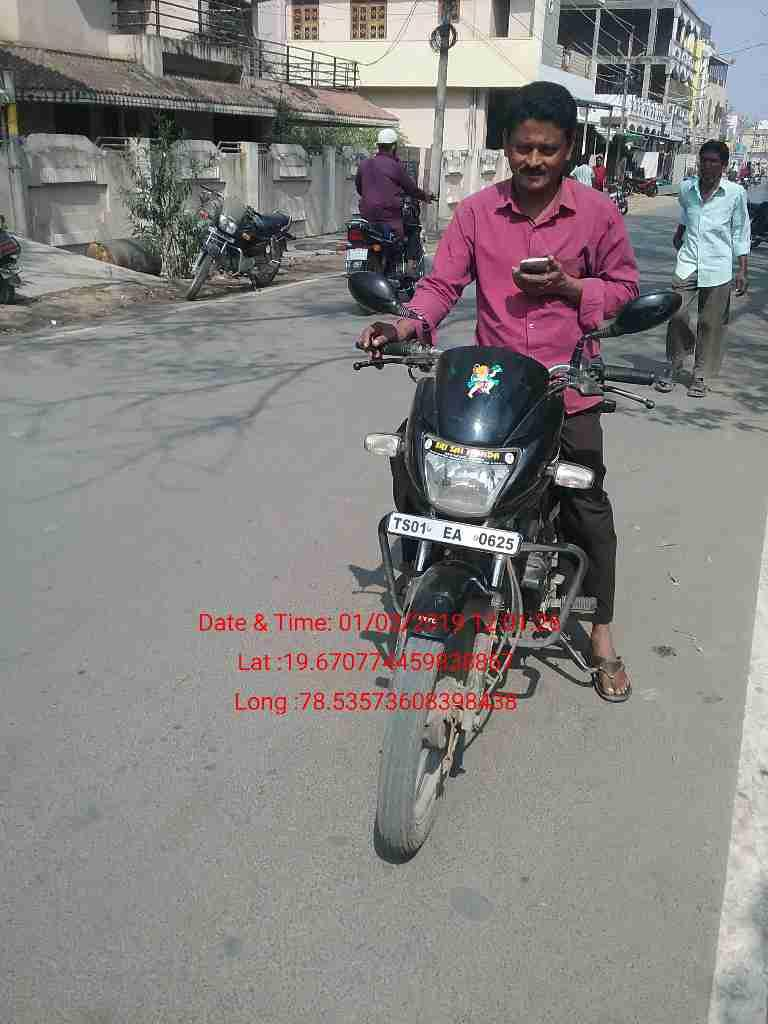plate: (383, 510, 525, 561), (343, 244, 371, 266)
